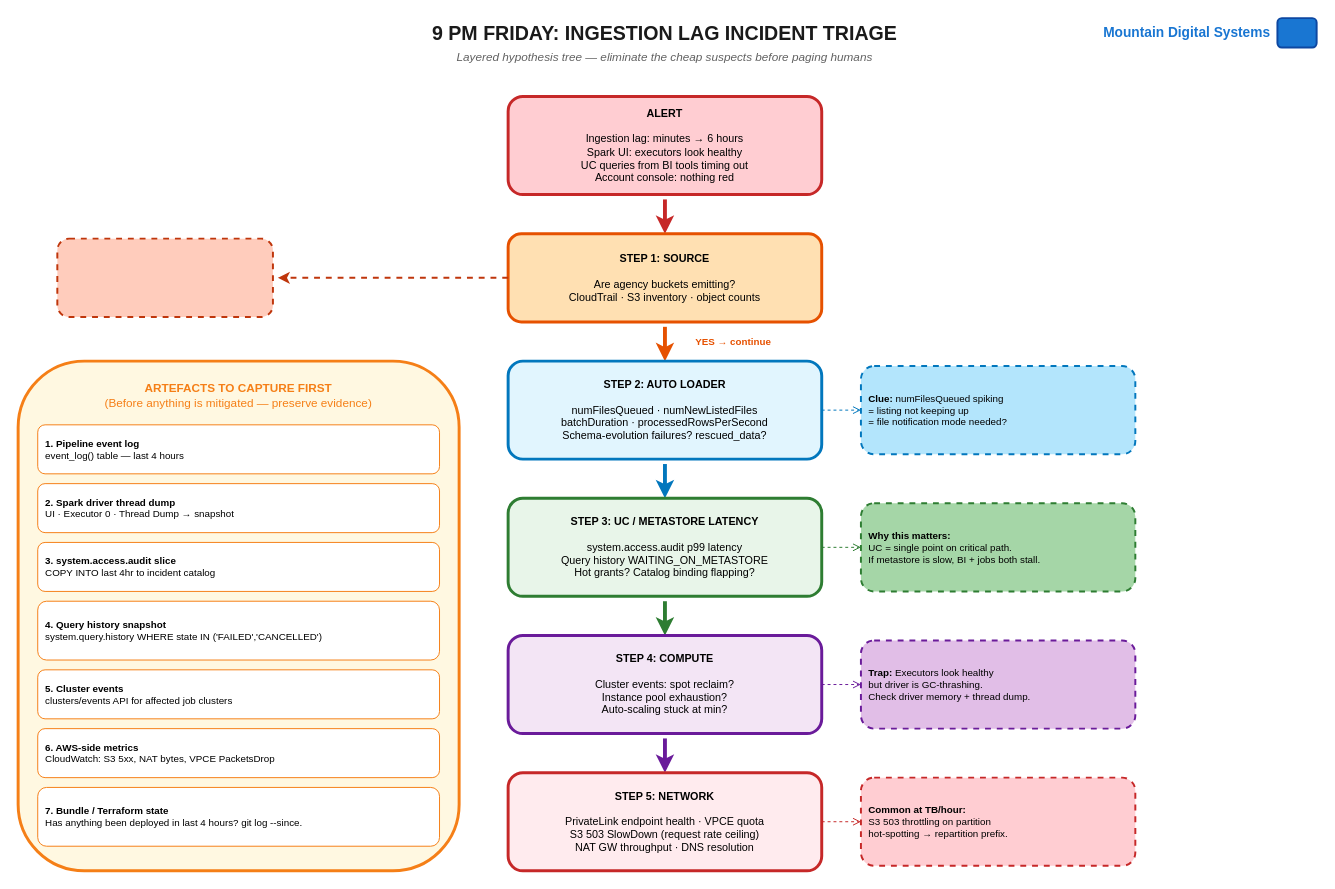
This 1335x889 diagram has some shape labels left out. The shapes that lost their labels are listed below. From the top down, each one's centre as x and y in pixels, then its label:
At point 1296,32: "MDS".
At point 164,277: "NO emissions Escalate to agency NOT a CISA problem".
